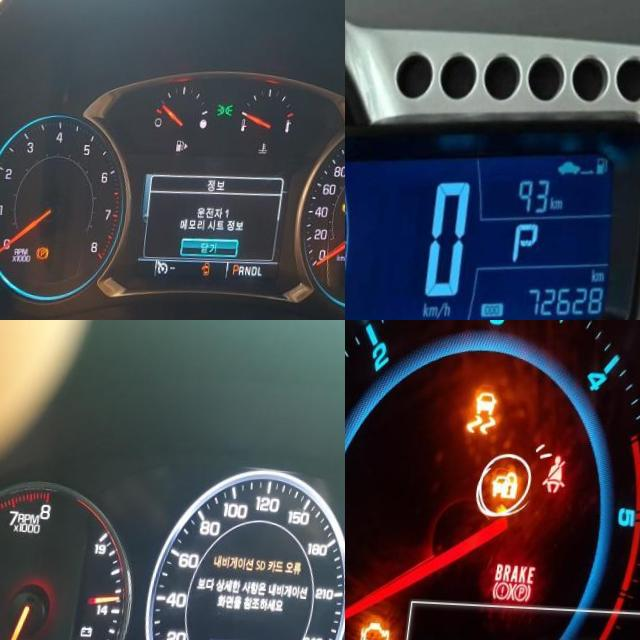Doors: (212, 259, 221, 271)
SideLamp: (222, 98, 241, 114)
